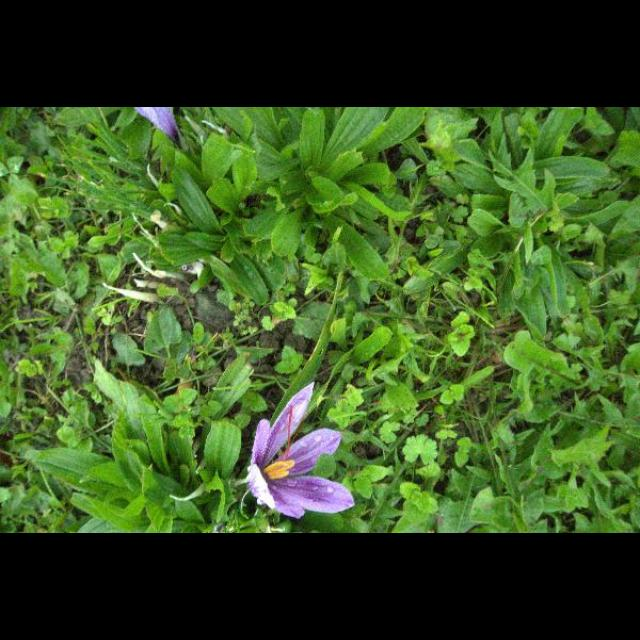flower: (245, 382, 355, 520)
